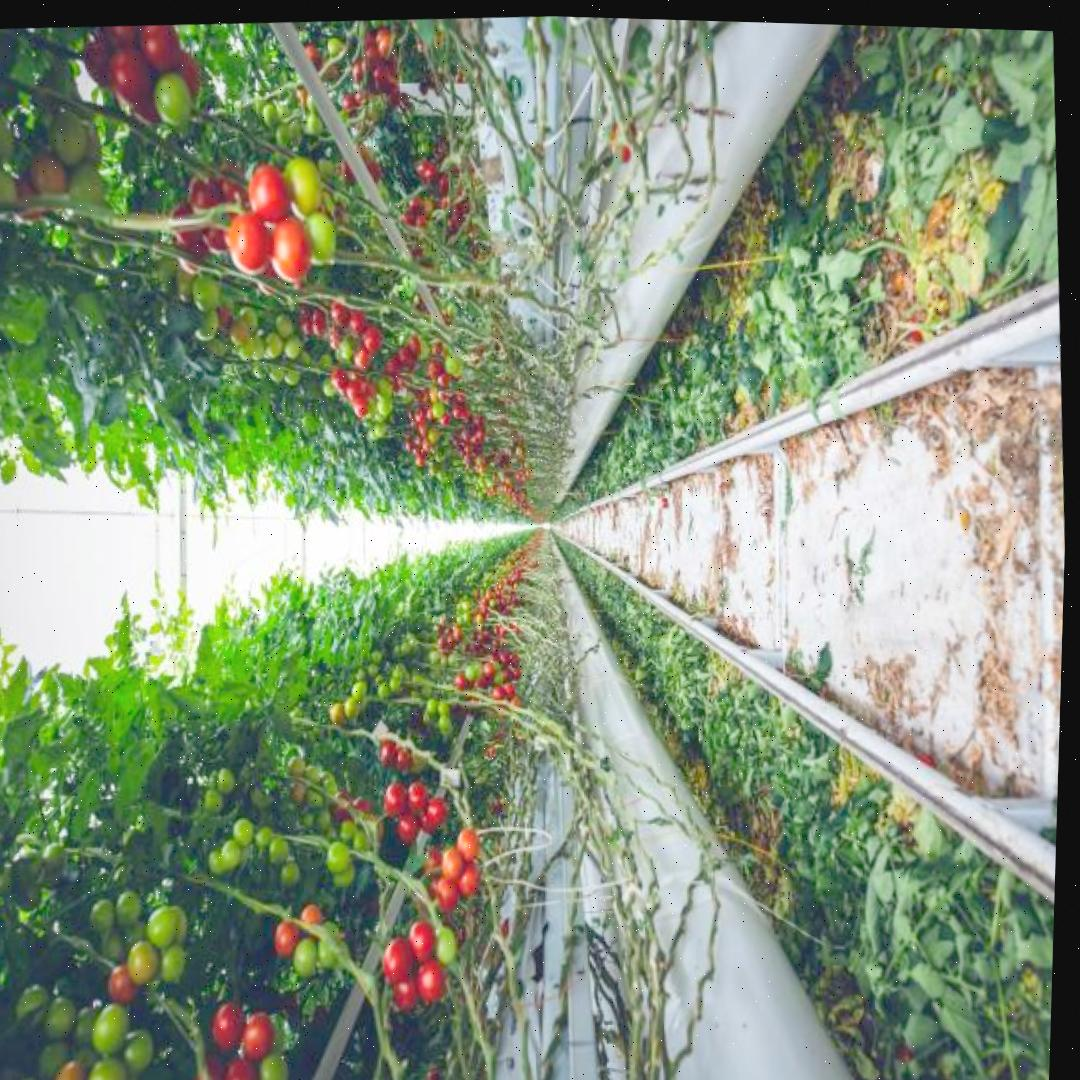matang: (226, 209, 274, 278), (268, 213, 316, 281), (107, 45, 157, 109), (246, 162, 294, 219), (211, 999, 247, 1053), (381, 931, 416, 983), (222, 1054, 263, 1080), (380, 780, 409, 816), (426, 796, 448, 826)
mentah: (152, 71, 193, 128), (89, 1002, 132, 1055), (146, 903, 179, 947), (292, 934, 320, 979), (326, 839, 353, 875)
setengah_matang: (124, 939, 161, 987), (440, 846, 463, 878)
